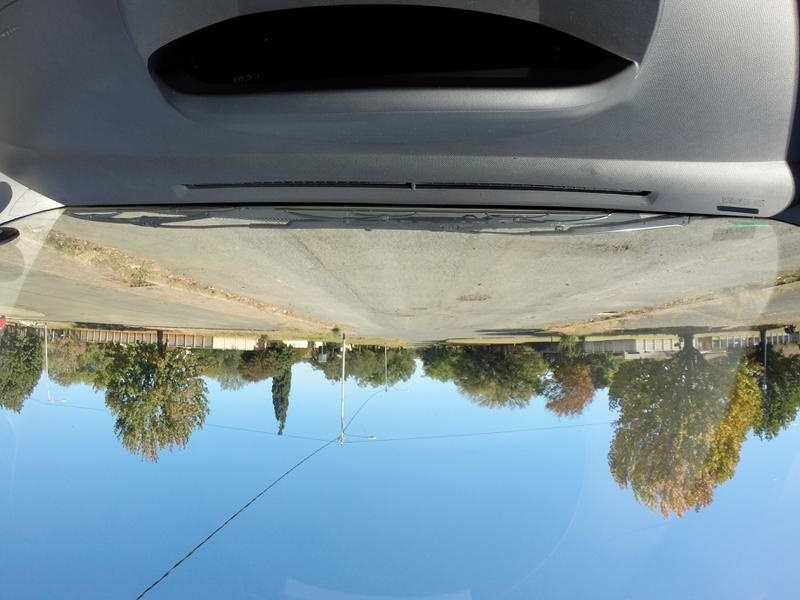pothole: (587, 241, 633, 255), (454, 292, 502, 303), (398, 310, 418, 317), (411, 306, 433, 311)
